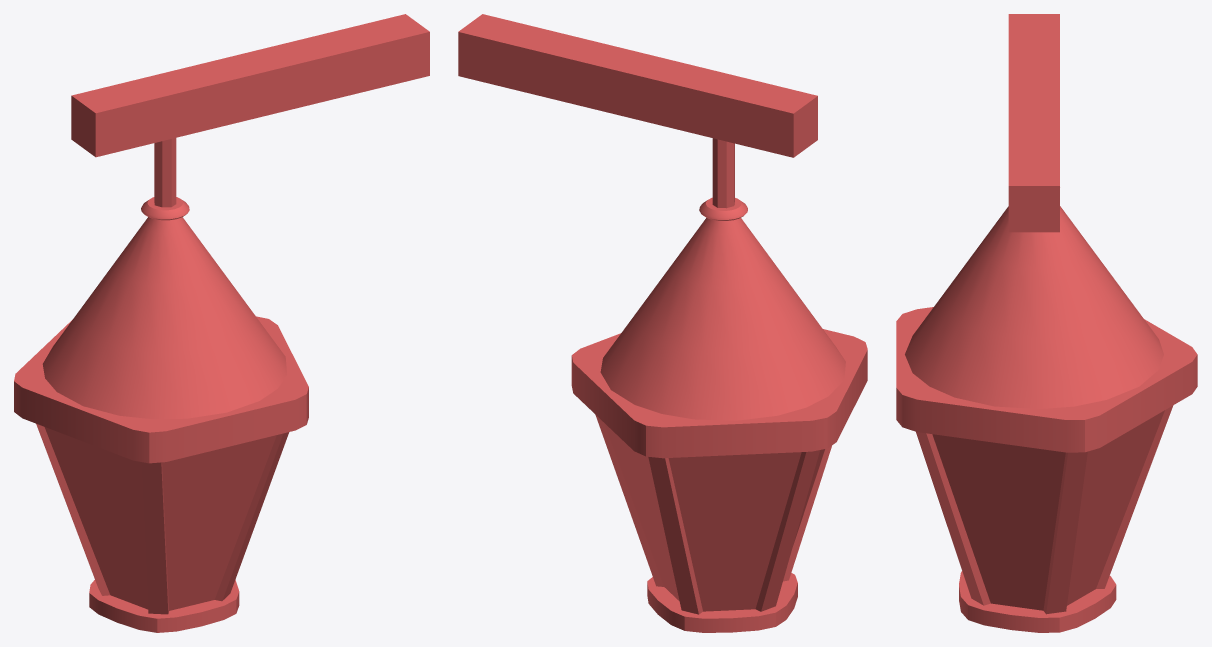
Rendered from lavaDing_09.fbx.
The picture shows the model from 3 angles, left to right: view 1: azimuth 30°, elevation 25°; view 2: azimuth 150°, elevation 25°; view 3: azimuth 270°, elevation 25°; orthographic projection. The views are drawn at different scales.
Parts seen in each view (by area): view 1: Cylinder.003; view 2: Cylinder.003; view 3: Cylinder.003.
Boxes of the visible parts, x1,y1,x2,y2 form: Cylinder.003: [14, 14, 429, 632]; Cylinder.003: [458, 14, 867, 632]; Cylinder.003: [896, 14, 1197, 632].
Size of the model in its own units: 55.81 by 72.34 by 36.31.
